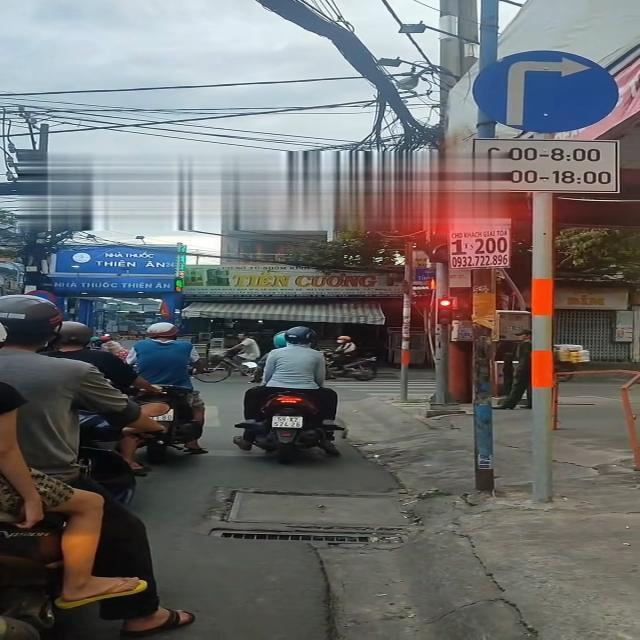301d-cac-xe-chi-duoc-re-phai-2: (468, 50, 619, 129)
